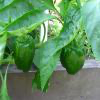Bell_pepper leaf: (51, 6, 84, 56), (4, 10, 59, 36), (40, 39, 61, 91), (82, 0, 99, 62)
